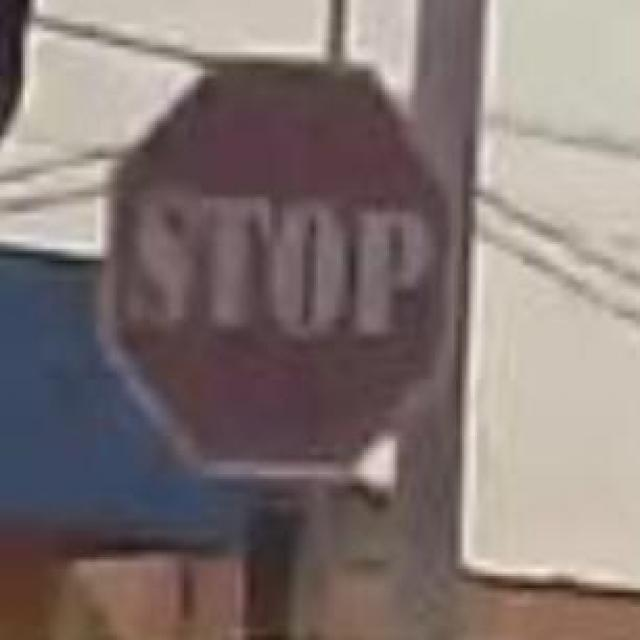traffic sign: (128, 74, 452, 470)
